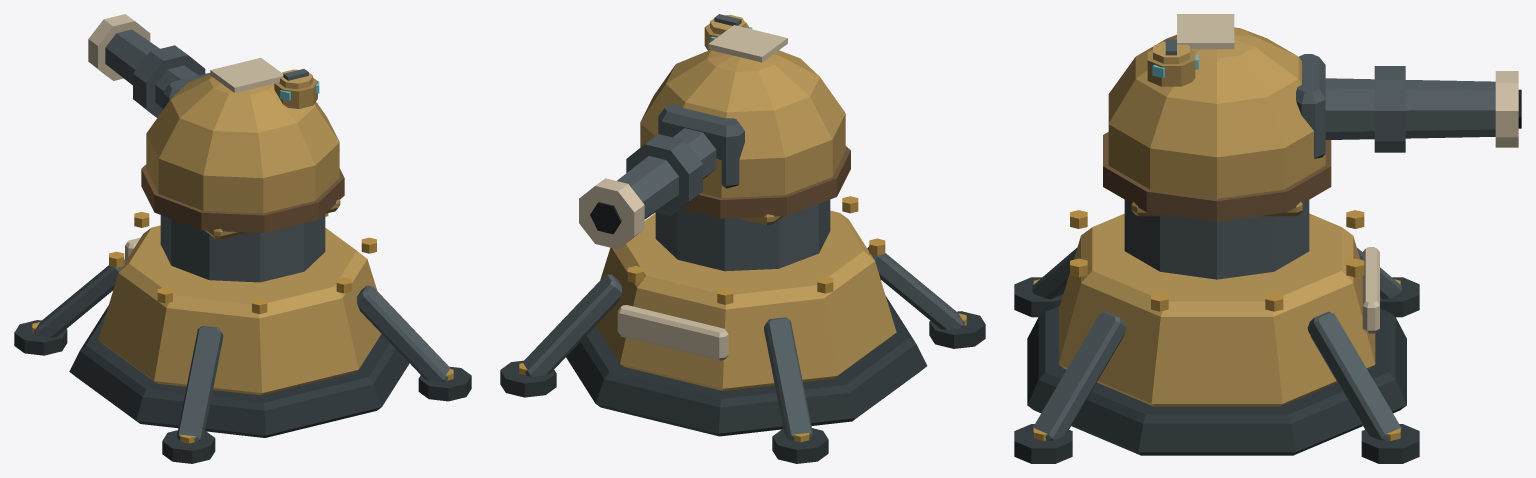
The picture shows the model from 3 angles, left to right: view 1: azimuth 30°, elevation 25°; view 2: azimuth 150°, elevation 25°; view 3: azimuth 270°, elevation 25°; orthographic projection. The views are drawn at different scales.
Visible parts, largest first — view 1: hull_01, turret_01; view 2: hull_01, turret_01; view 3: hull_01, turret_01.
Boxes of the visible parts, x1,y1,x2,y2 form: hull_01: [14, 199, 471, 463]; turret_01: [88, 14, 344, 232]; hull_01: [500, 196, 985, 463]; turret_01: [579, 14, 850, 249]; hull_01: [1014, 200, 1419, 463]; turret_01: [1103, 14, 1521, 221].
Bounding box in the file's own units: 0.7097 × 0.681 × 0.8879.
